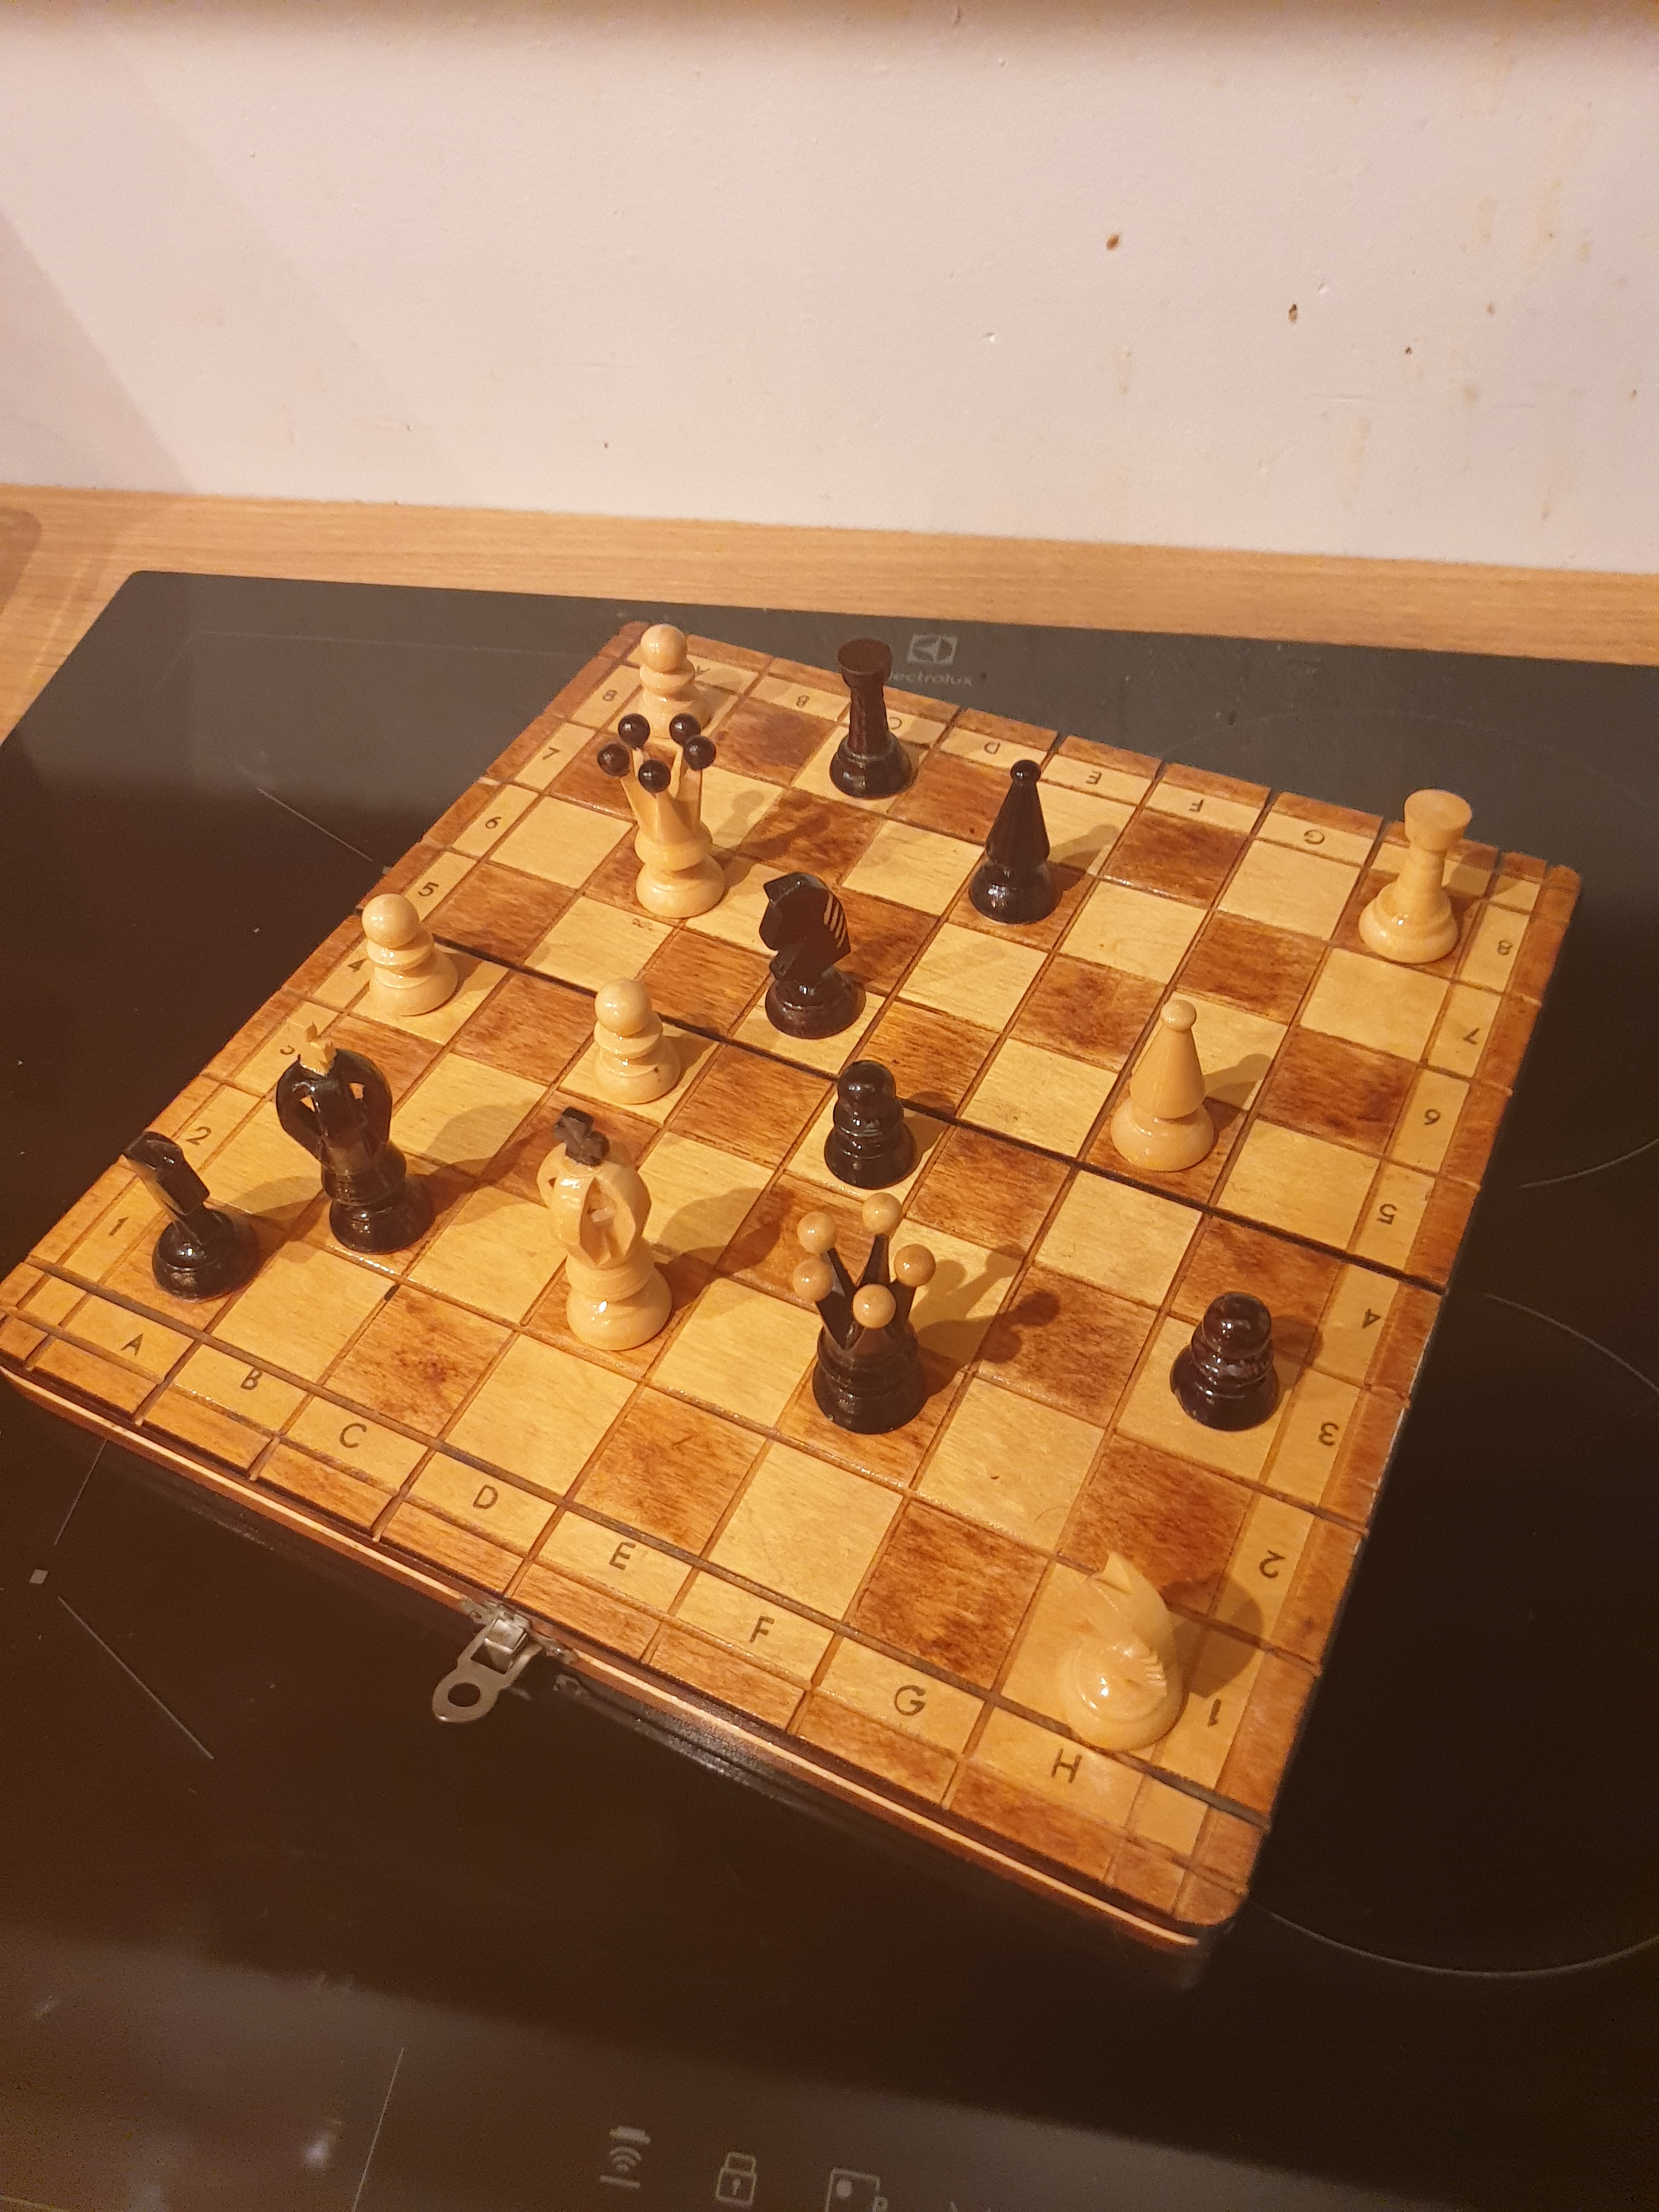bbishop: (962, 752, 1080, 937)
bking: (261, 1008, 443, 1268)
bknight: (113, 1118, 268, 1312), (748, 862, 889, 1043)
bpawn: (1168, 1273, 1293, 1453), (819, 1052, 931, 1207)
bqueen: (784, 1184, 964, 1451)
brook: (812, 620, 927, 822)
wbishop: (1101, 989, 1229, 1183)
wking: (521, 1103, 697, 1366)
wknight: (1037, 1529, 1197, 1777)
wpawn: (345, 883, 469, 1021), (580, 972, 688, 1111), (622, 610, 720, 761)
wqueen: (587, 700, 767, 932)
wrook: (1340, 773, 1490, 982)
